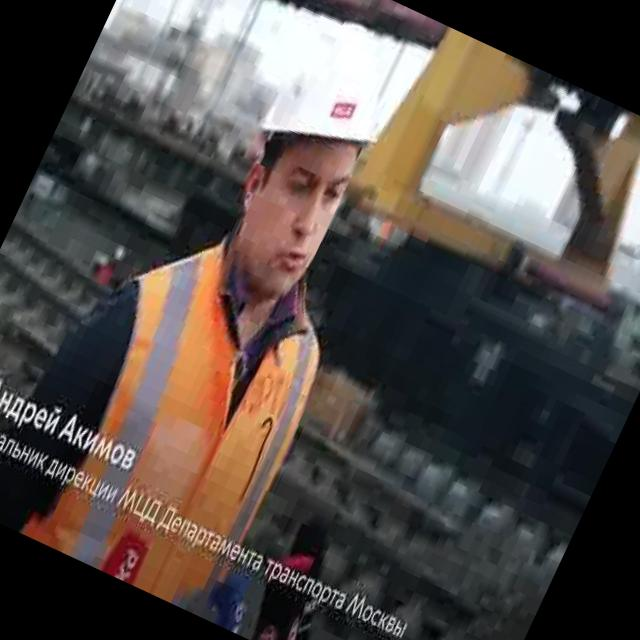hard_hat: (255, 10, 416, 182)
safety_vest: (2, 193, 364, 621)
